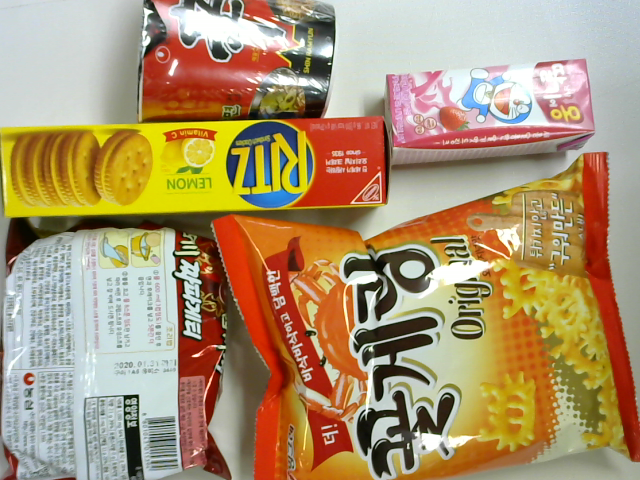Crabrang: (211, 154, 640, 474)
Ritz_Remon_96g: (5, 114, 393, 216)
Sichuan_Chapaghetti: (7, 210, 230, 480)
Sinramen_Black: (137, 4, 345, 136)
Strawberry_E_Mong: (387, 64, 599, 168)
